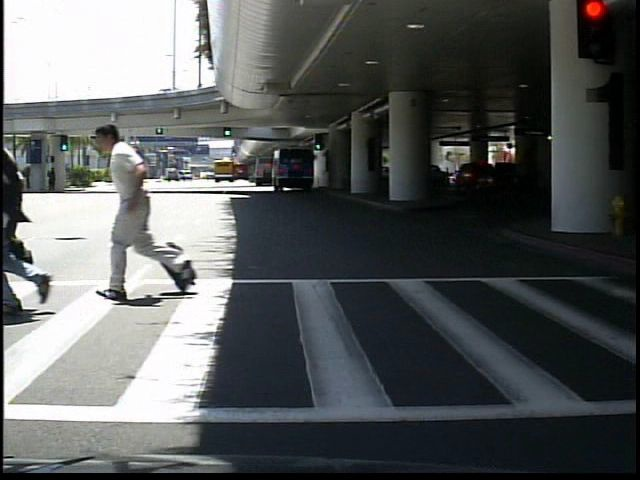person: (104, 121, 184, 300)
